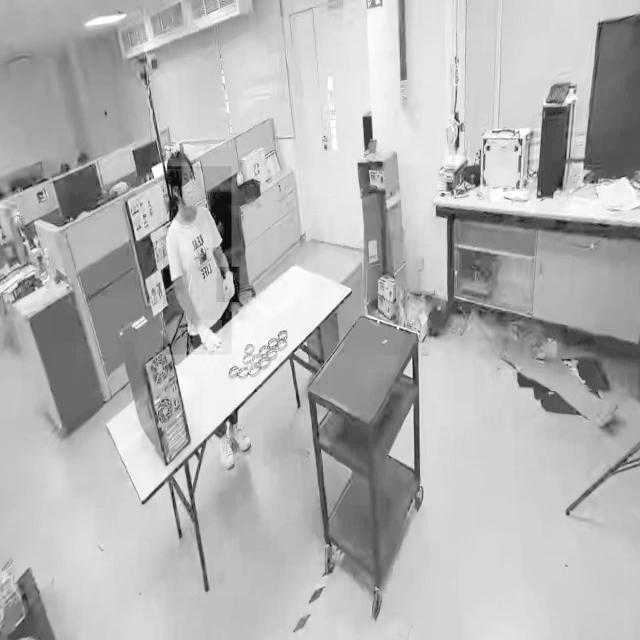face_mask: (179, 170, 201, 212)
hand_glove: (192, 320, 222, 352), (216, 267, 240, 303)
head_nohelmet: (167, 151, 195, 170)
person: (162, 166, 232, 356)
shoes: (228, 418, 252, 455), (218, 432, 236, 472)
